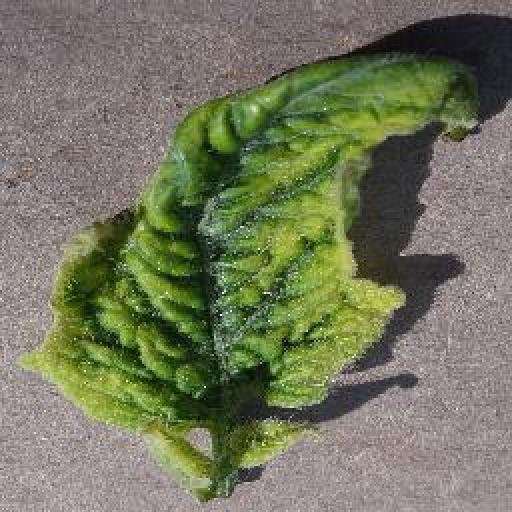disease_tomato: (20, 51, 486, 468)
